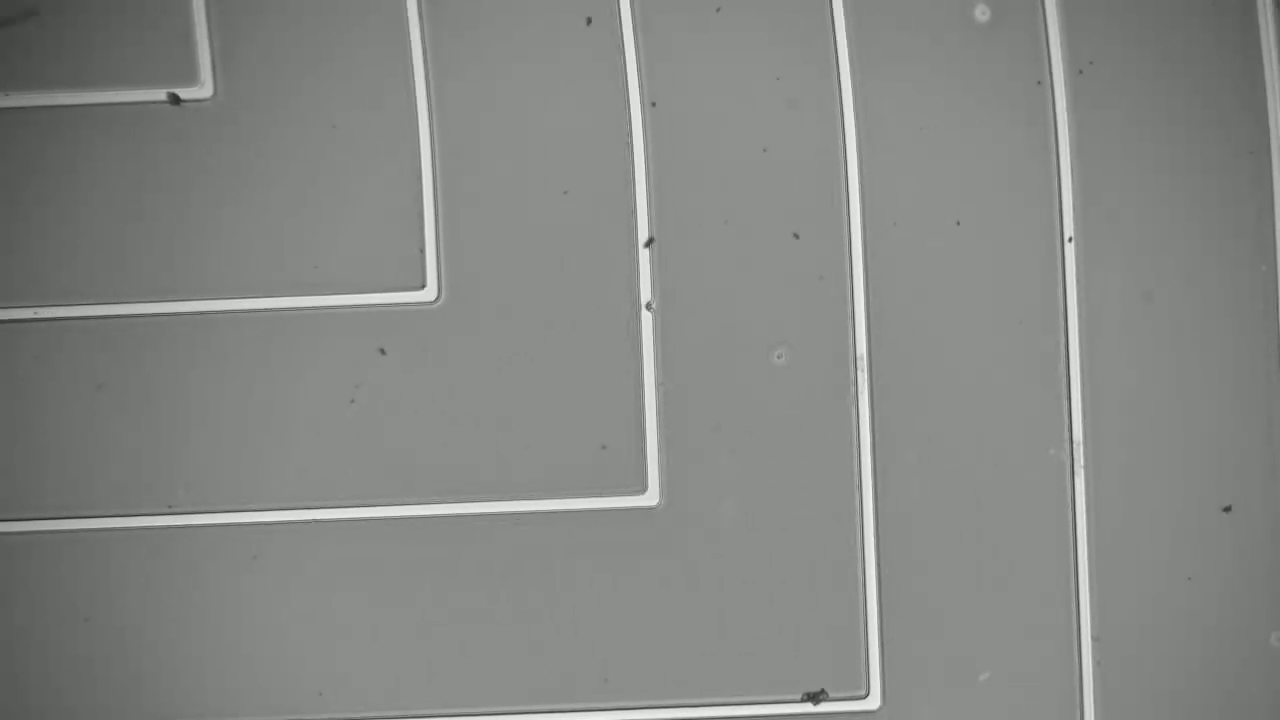stains_enbedded: (158, 75, 190, 113)
